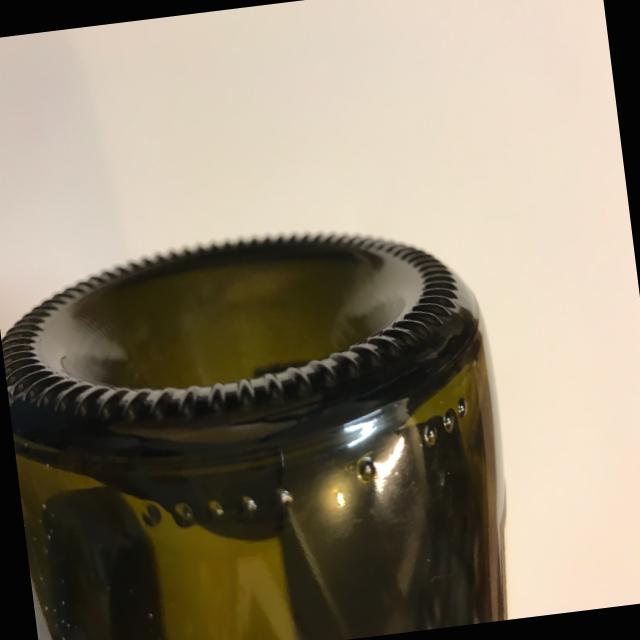Glass: (0, 184, 542, 640)
